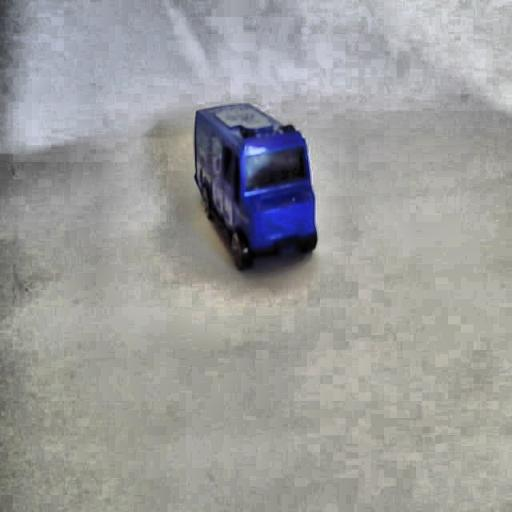police car: (190, 106, 324, 269)
